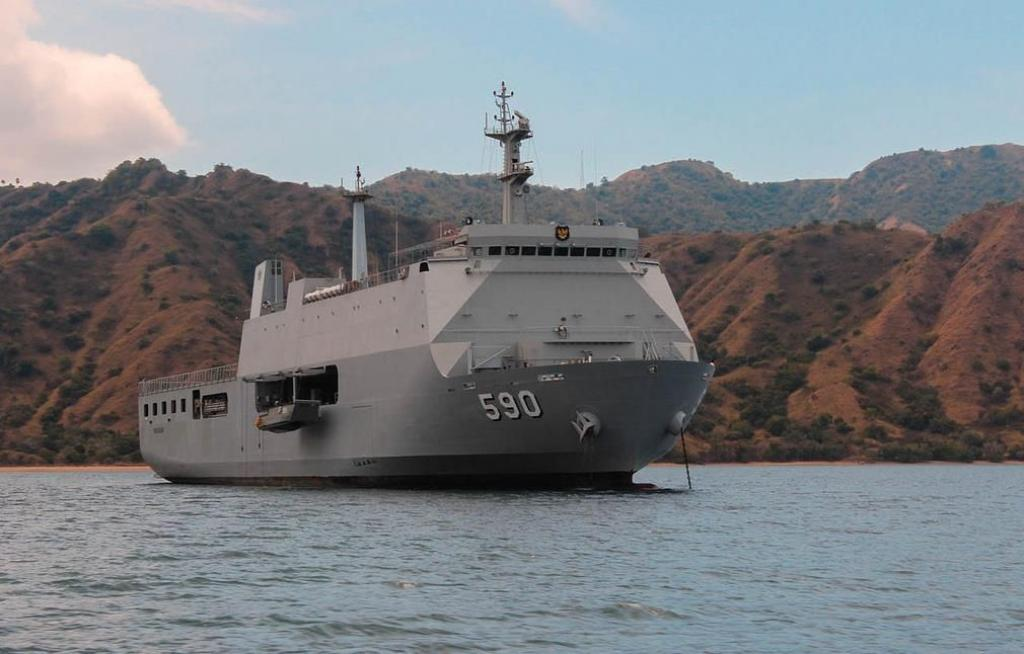Warship: (136, 80, 714, 496)
